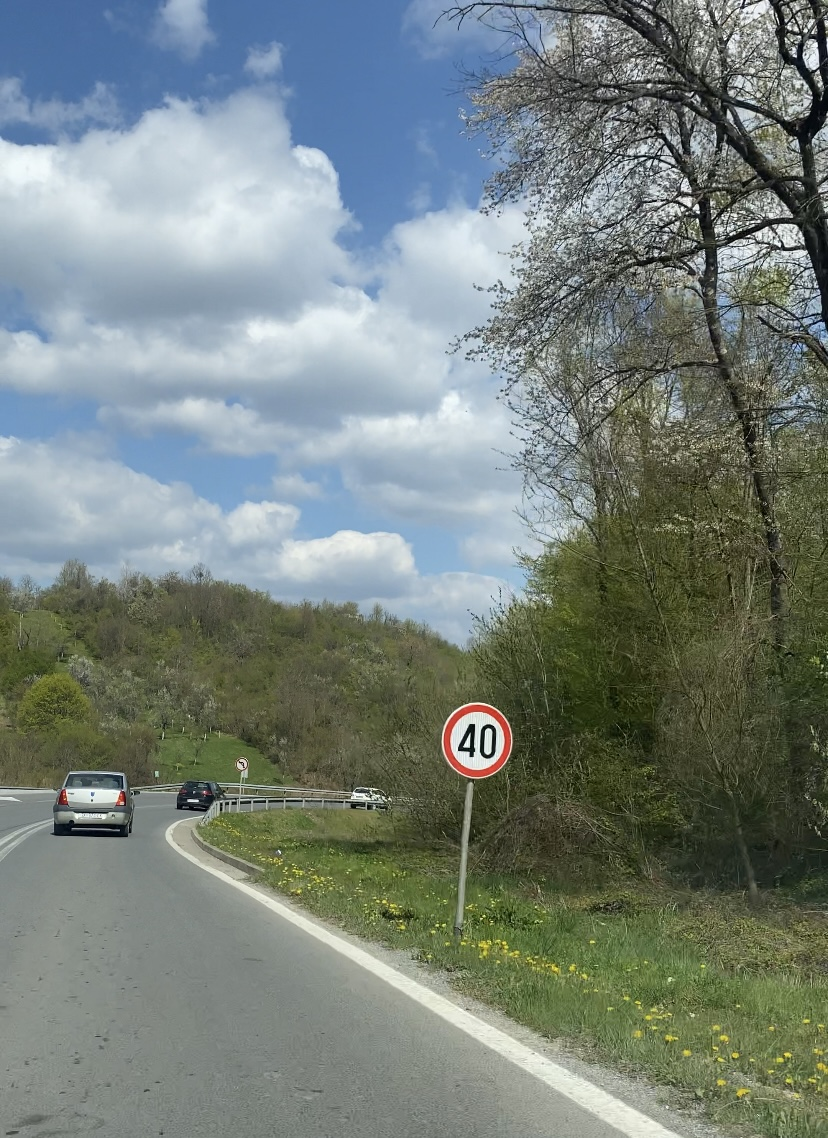Ograničenje brzine 40: (441, 702, 513, 780)
